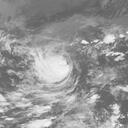cyclone: (31, 46, 74, 89)
